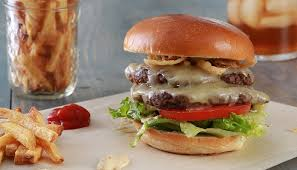hamburger: (119, 13, 268, 155)
